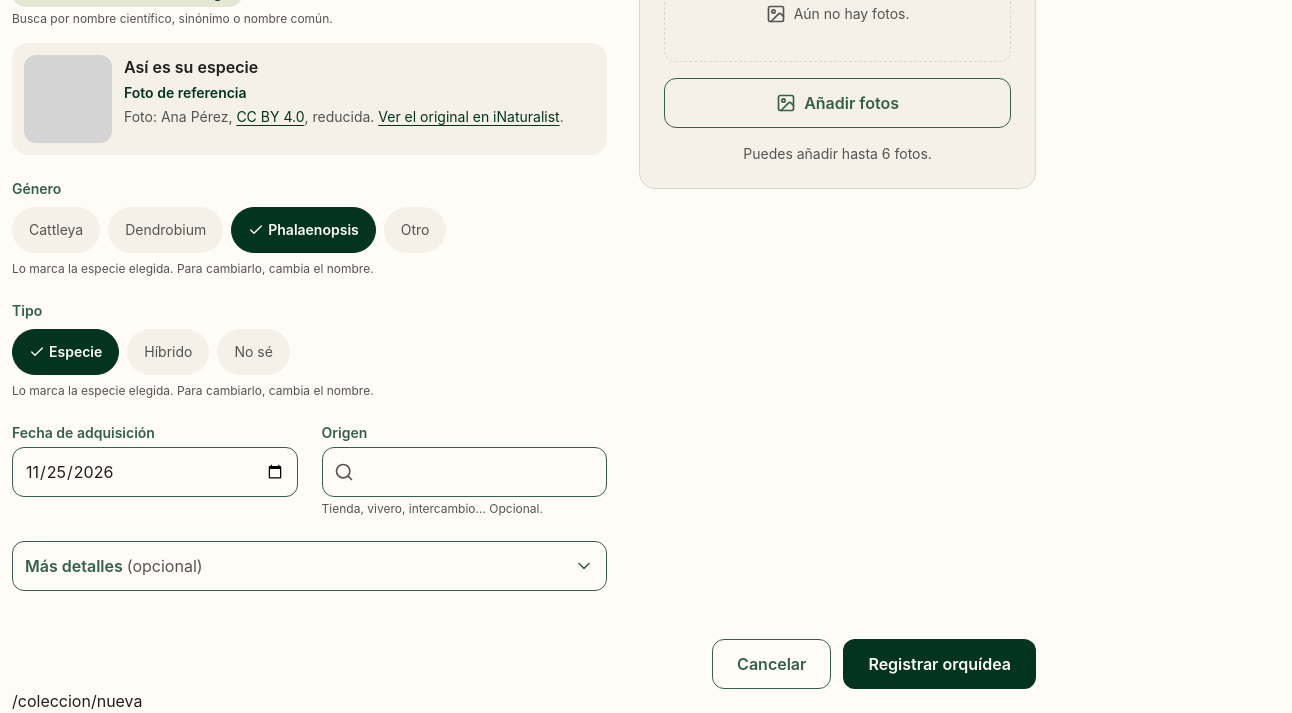
Scenario: NewPlantPage › desde la ficha del catálogo (#232) empieza con la especie elegida
(page scrolled)
Expected: the button "Phalaenopsis" is shown, [231, 207, 376, 253]
Click the button "Registrar orquídea": [940, 664] box [843, 639, 1036, 689]
(page scrolled)
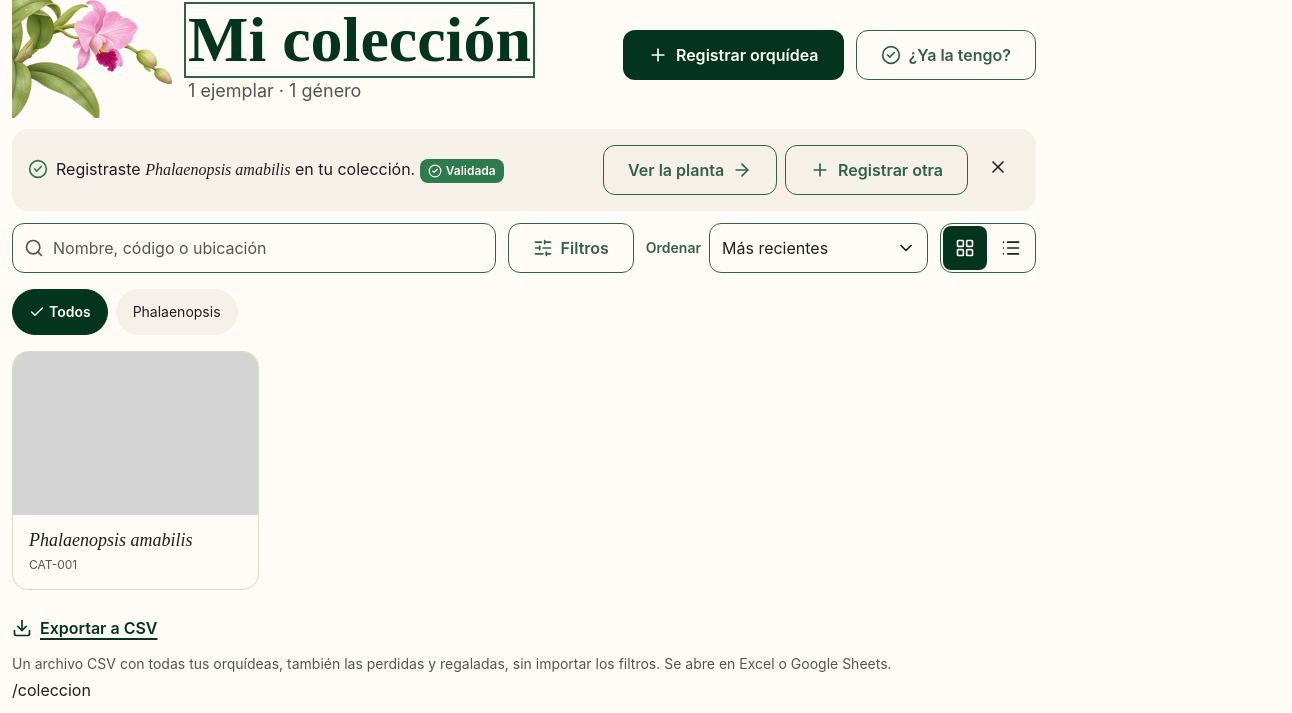
Now the text with test id "location" reads "/coleccion", box [12, 680, 91, 700]
